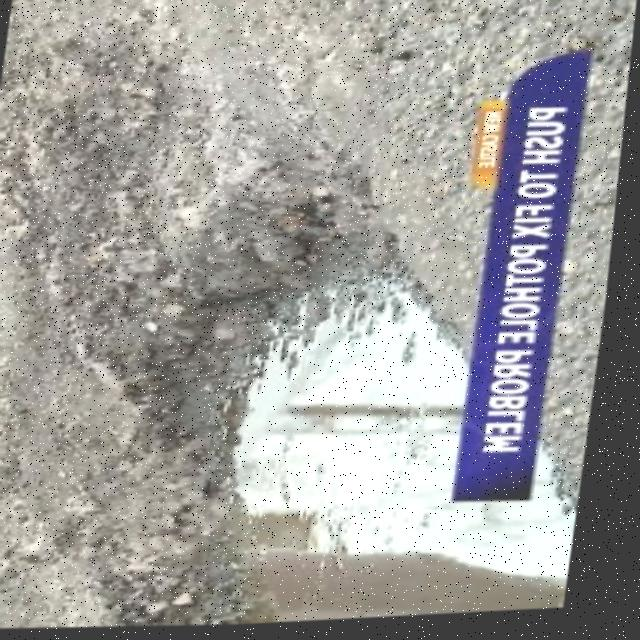Pothole: (97, 193, 622, 634)
